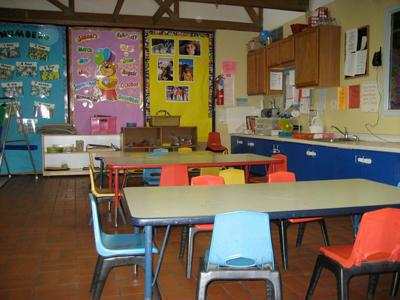Otro Obstaculo: (7, 94, 40, 180)
